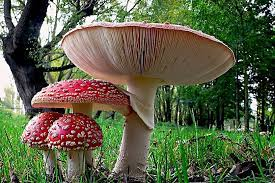Amanita muscaria: (64, 13, 233, 172), (31, 76, 131, 178), (46, 112, 103, 173), (23, 110, 59, 174)
